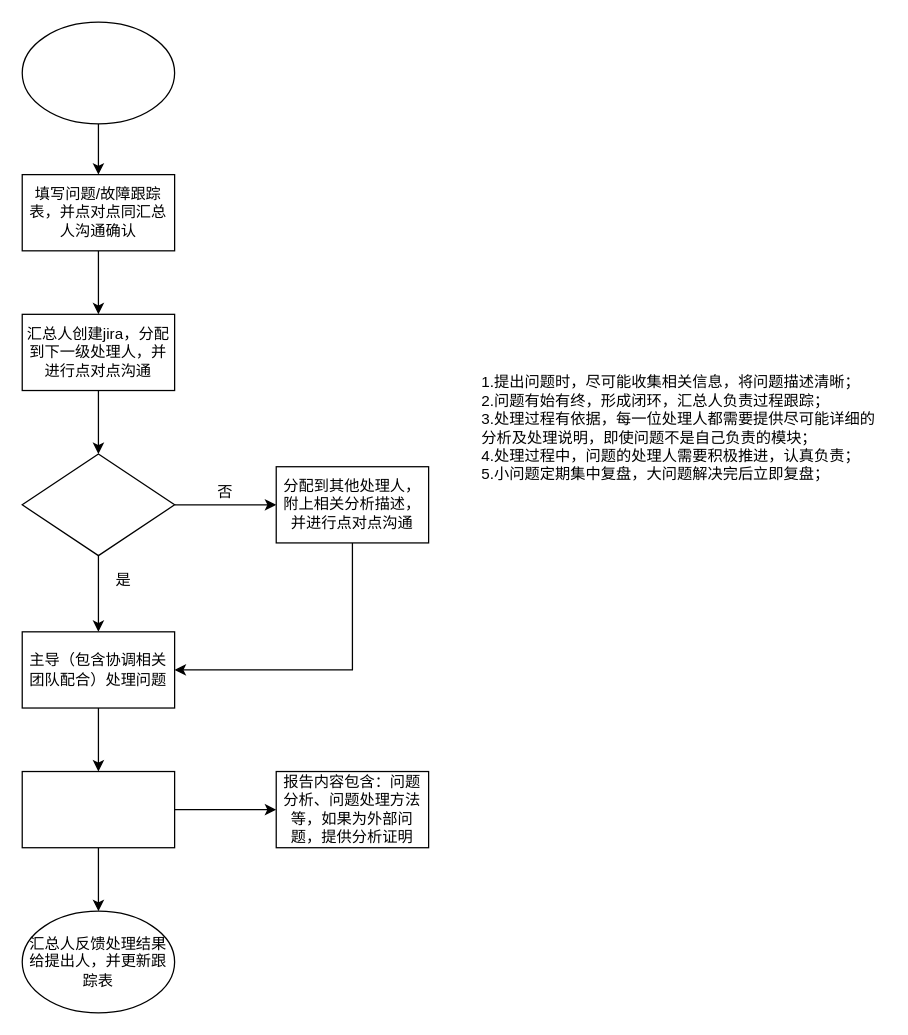
Some shapes in this 908 by 1035 pixel diagram are drawn without their labels. Here are the shapes that lost their labels. From the top down, the centre of each, then its label:
At point 98,72: "问题/故障提出 （任何团队成员）".
At point 98,504: "是否为自己负责的问题".
At point 98,809: "处理完成后，流程结束并走回到汇总人，提供问题处理报告".
